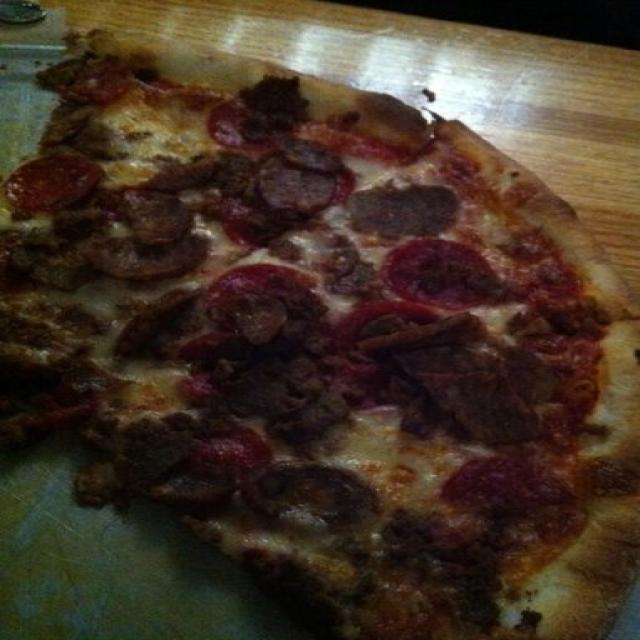Cheese: (334, 418, 450, 487), (128, 106, 206, 153)
Pepperoni: (385, 237, 507, 304), (448, 455, 562, 520), (204, 256, 307, 311), (5, 155, 101, 205), (194, 430, 274, 468)
Pizza: (0, 29, 640, 640)
Sausage: (379, 330, 553, 431), (80, 192, 216, 277), (229, 364, 346, 418), (255, 466, 362, 524), (104, 430, 204, 490), (351, 185, 461, 235), (260, 138, 335, 208), (115, 291, 193, 358), (22, 298, 85, 374), (152, 157, 241, 188)
